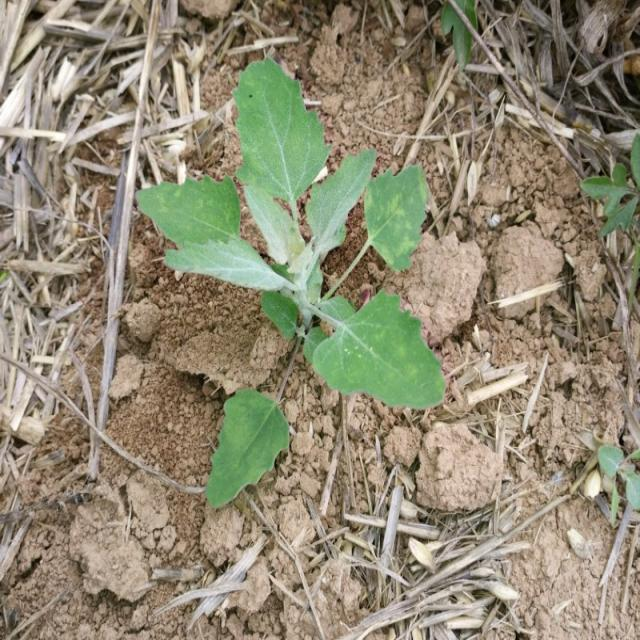ca: (167, 59, 449, 413)
